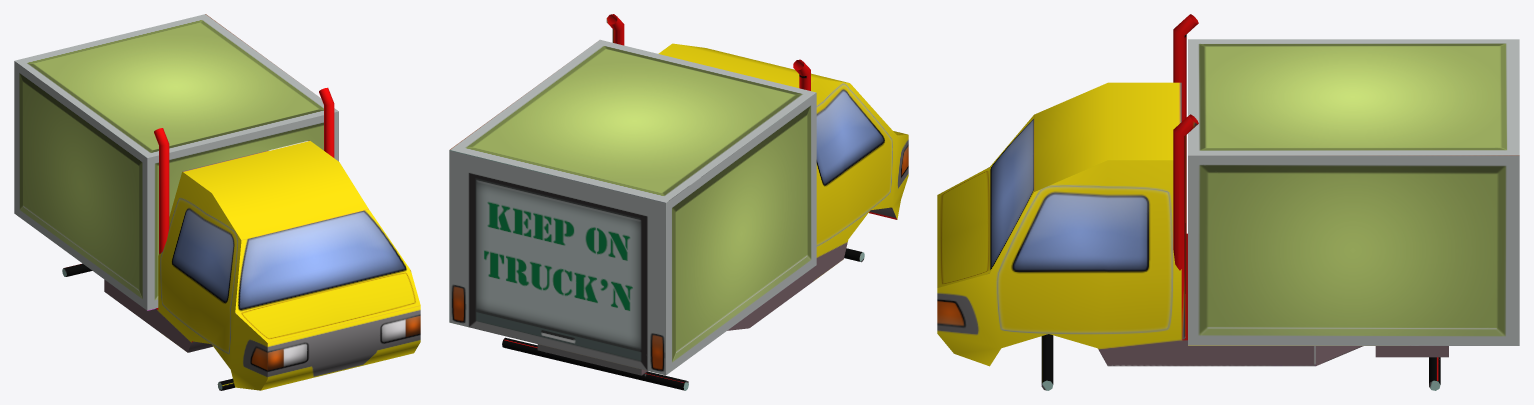
The model's file is truck.glb.
The picture shows the model from 3 angles, left to right: view 1: azimuth 30°, elevation 25°; view 2: azimuth 150°, elevation 25°; view 3: azimuth 270°, elevation 25°; orthographic projection. The views are drawn at different scales.
Parts seen in each view (by area): view 1: truck_001_truck_001; view 2: truck_001_truck_001; view 3: truck_001_truck_001.
Boxes of the visible parts, x1=… form: truck_001_truck_001: x1=14, y1=14, x2=420, y2=390; truck_001_truck_001: x1=449, y1=14, x2=908, y2=390; truck_001_truck_001: x1=937, y1=14, x2=1519, y2=390.
Size of the model in its own units: 1.12 by 1.24 by 2.36.
Materials: 1 (1 with a texture image).
